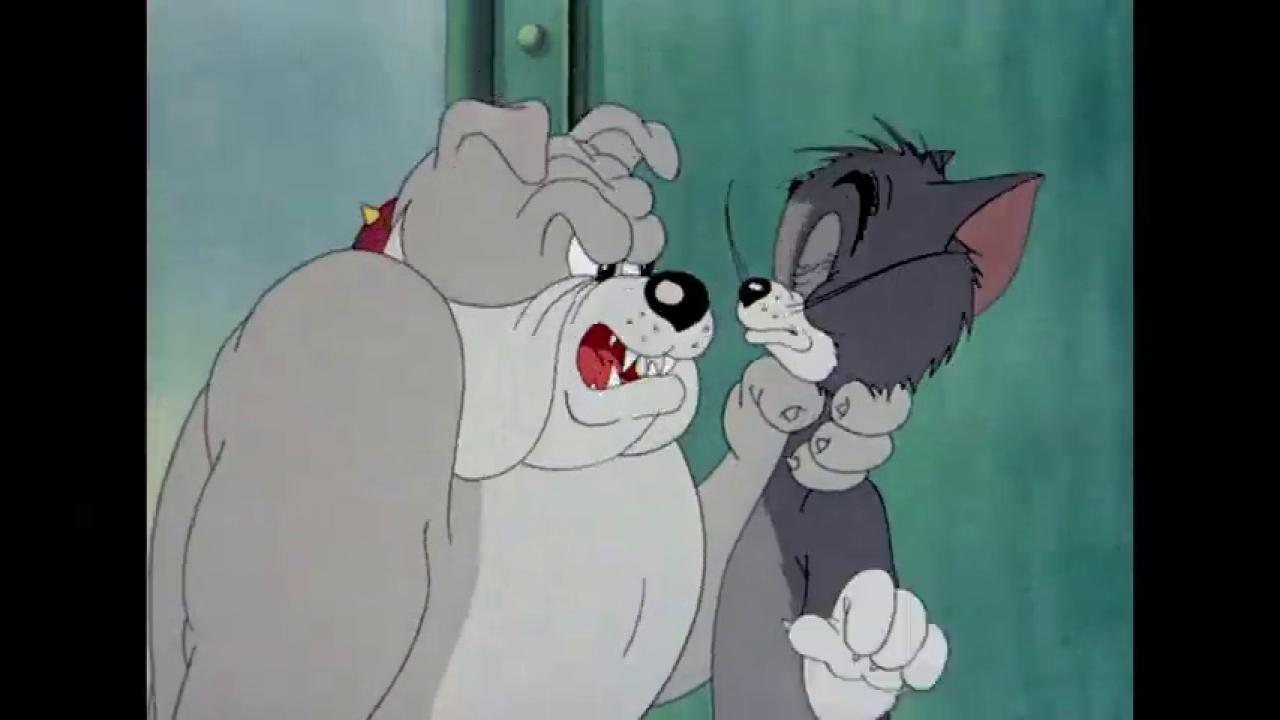Tom: (709, 112, 1046, 720)
